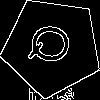Q: (27, 22, 81, 67)
